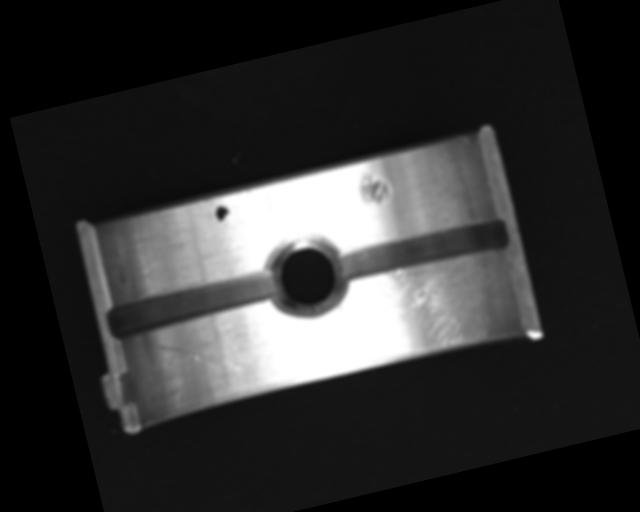blot: (214, 202, 233, 228)
bruise: (355, 166, 392, 209)
gap: (331, 212, 512, 290), (103, 267, 277, 340)
hole: (259, 227, 351, 324)
nick: (154, 326, 243, 390)
scratch: (342, 245, 515, 369)
